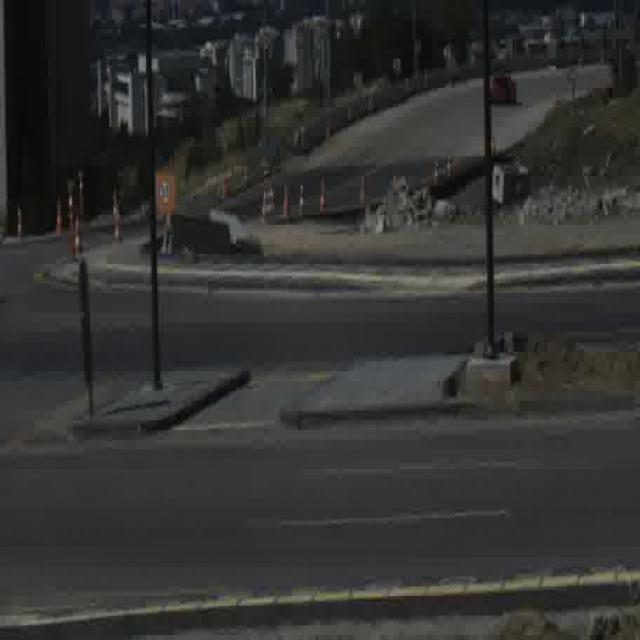Car: (491, 66, 518, 106)
